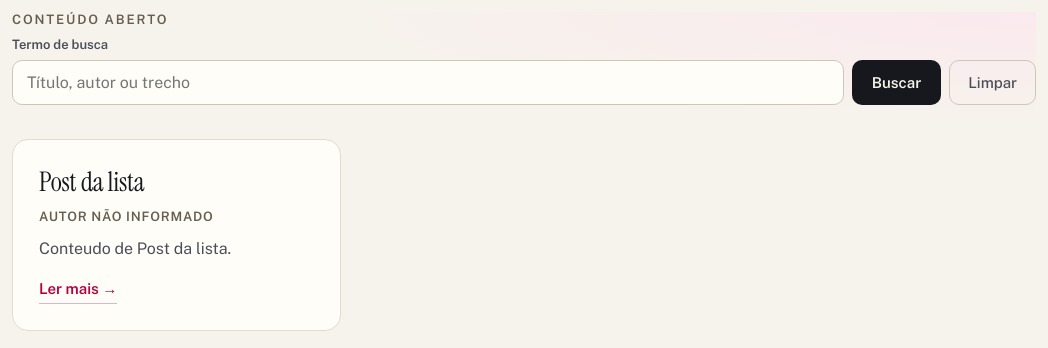
Scenario: limpar volta a listar todos os posts
Expected: the heading "Post da lista" is shown, [39, 164, 144, 199]
Type "busca" into the search field labelled "Termo de busca".
click(428, 82); type("busca")  # box [12, 60, 844, 105]
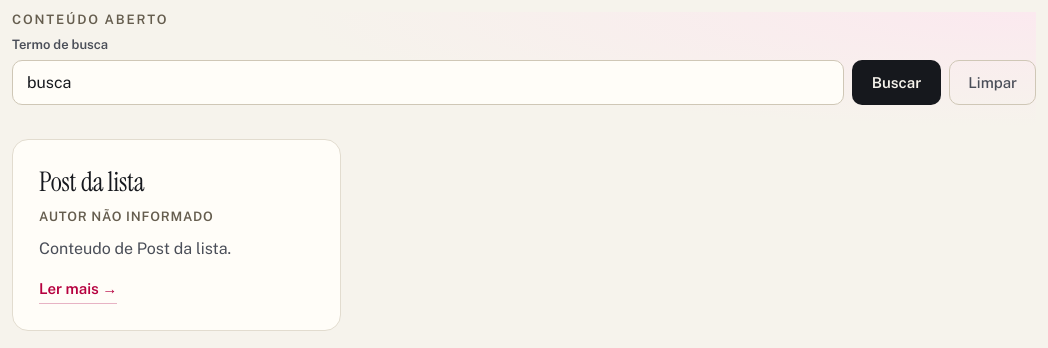
Click the button "Buscar".
click(897, 82)  # box [852, 60, 941, 105]
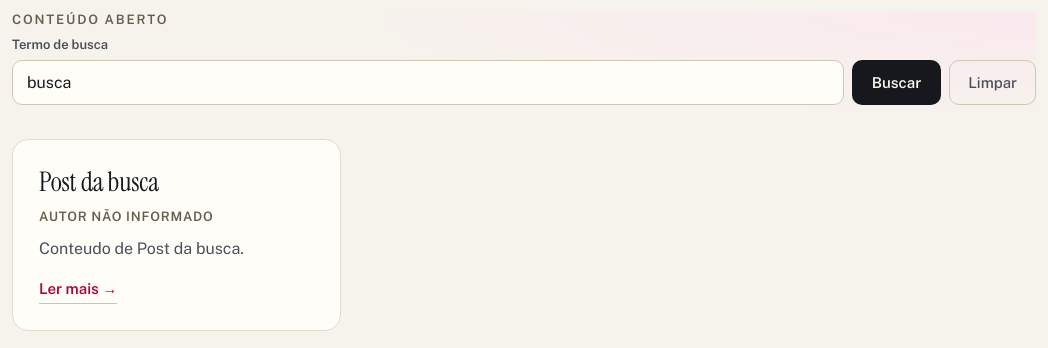
Result: the heading "Post da busca" is shown at [39, 164, 159, 199]
Click the button "Limpar".
click(993, 82)  # box [949, 60, 1036, 105]
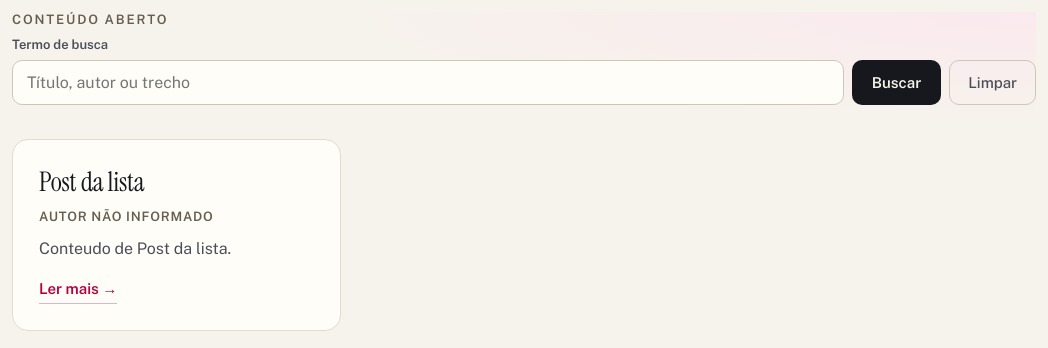
Result: the heading "Post da lista" is shown at [39, 164, 144, 199]
